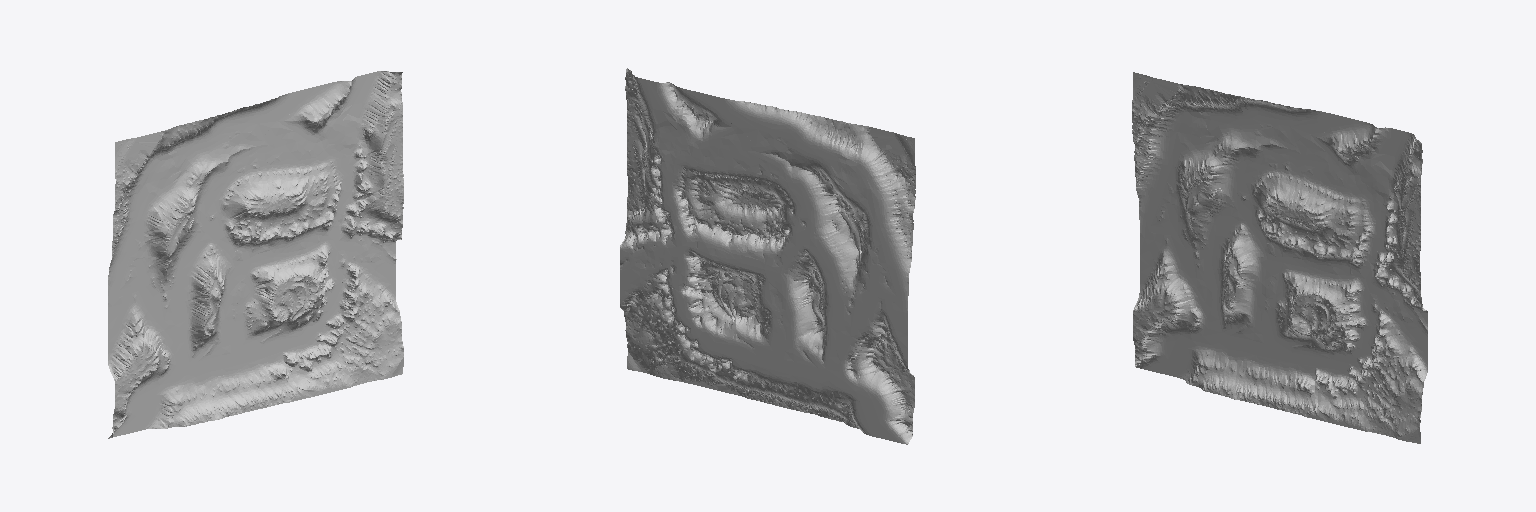
File: _TerrainLod4_Bis.obj
The picture shows the model from 3 angles: view 1: azimuth 30°, elevation 25°; view 2: azimuth 150°, elevation 25°; view 3: azimuth 330°, elevation 25°; orthographic projection.
Parts seen in each view (by area): view 1: Plane.003; view 2: Plane.003; view 3: Plane.003.
Boxes of the visible parts, x1=… form: Plane.003: x1=108, y1=71, x2=403, y2=438; Plane.003: x1=620, y1=68, x2=915, y2=444; Plane.003: x1=1132, y1=72, x2=1427, y2=443.
Bounding box in the file's own units: 2000 × 2000 × 104.